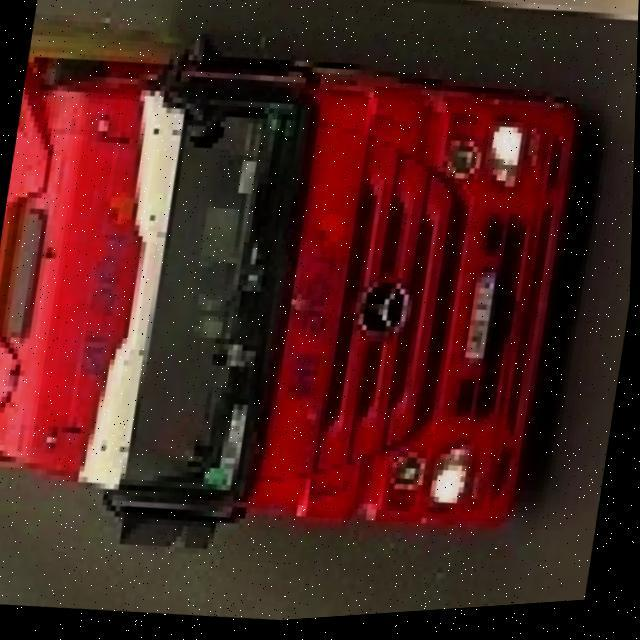truck: (0, 25, 597, 605)
